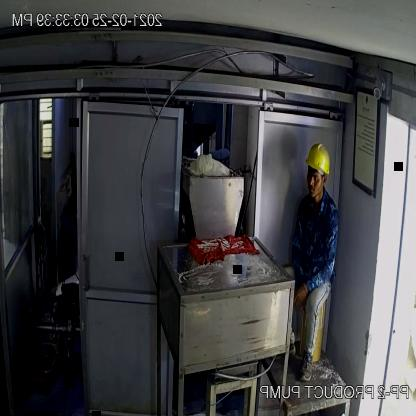helmet: (305, 134, 337, 182)
